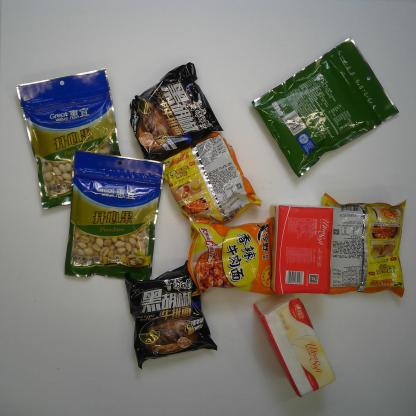Dried Fruit: (249, 36, 400, 180), (14, 67, 123, 211), (63, 149, 167, 282)
Instant Noodles: (161, 131, 262, 241), (124, 259, 218, 371), (127, 61, 224, 162), (321, 192, 408, 299), (186, 216, 275, 297)
Tissue: (253, 294, 337, 399), (268, 203, 334, 295)
